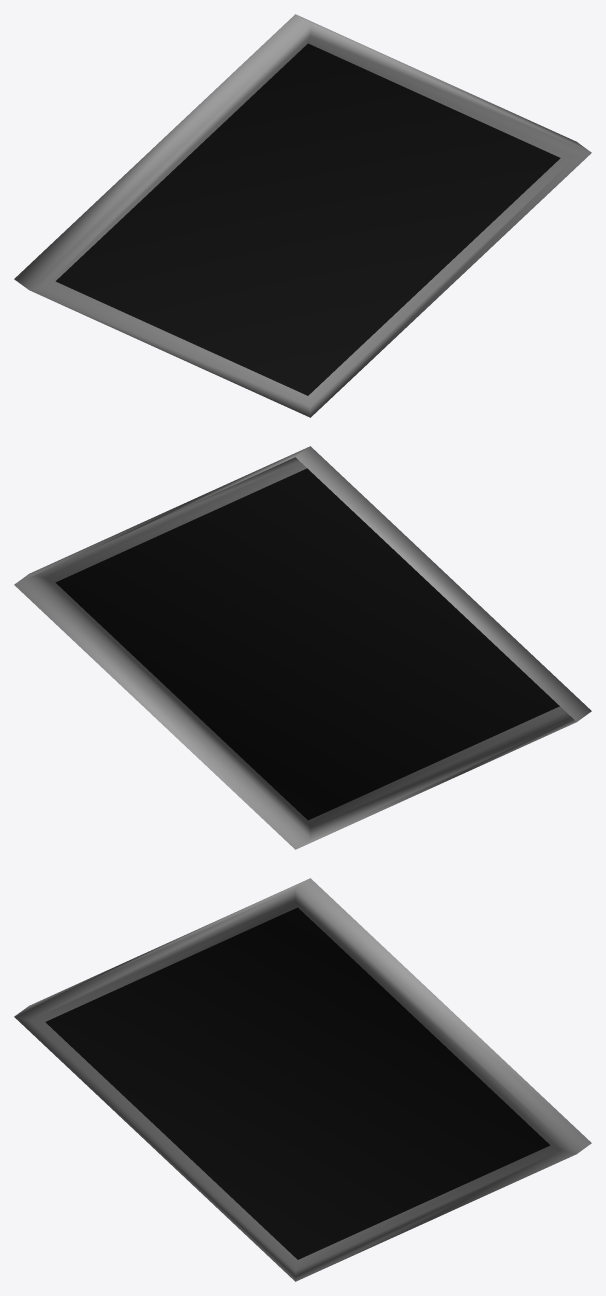
File: BlackBet.glb
3 views of the same model, one above another, from view 1: azimuth 30°, elevation 25°; view 2: azimuth 150°, elevation 25°; view 3: azimuth 330°, elevation 25° (orthographic).
Parts seen in each view (by area): view 1: BlackBet; view 2: BlackBet; view 3: BlackBet.
Boxes of the visible parts, x1,y1,x2,y2 form: BlackBet: [14, 14, 591, 417]; BlackBet: [14, 446, 591, 849]; BlackBet: [14, 878, 591, 1281].
Size of the model in its own units: 0.3341 by 0.2227 by 0.0155.
Materials: 1 (1 with a texture image).
